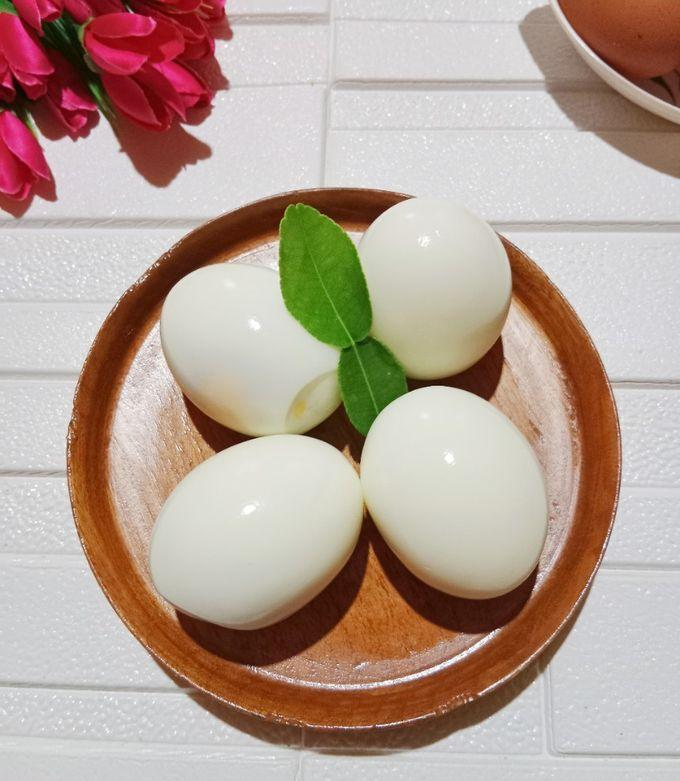buah_sayur_lainnya: (302, 239, 353, 331)
telur: (184, 480, 326, 583), (392, 426, 515, 530), (396, 212, 485, 336), (180, 290, 276, 389)
